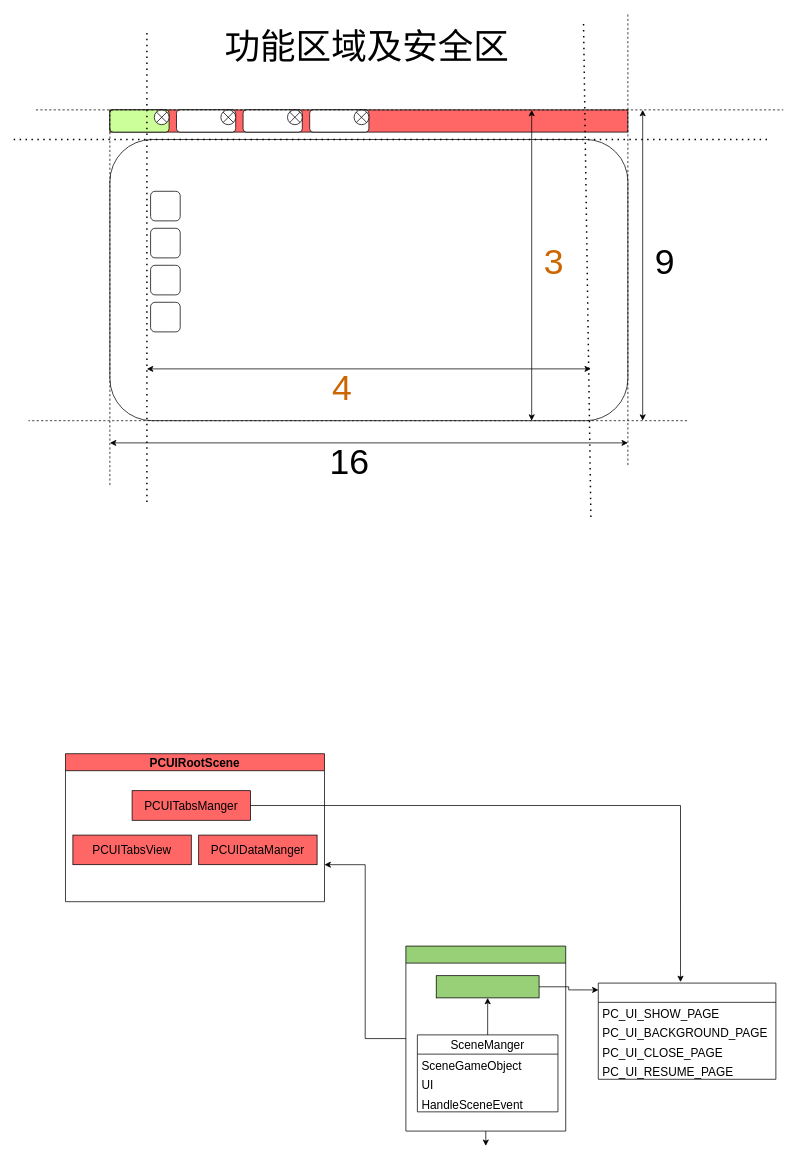
The diagram is 797 pixels wide and 1166 high, and some of its shapes have lost their labels. The box of each missing label's shape, as (x1, y1, x2, y2) in pixels:
Event: (598, 982, 776, 1079)
LiveScene: (405, 945, 566, 1131)
UIPageAdapter: (435, 975, 539, 998)
